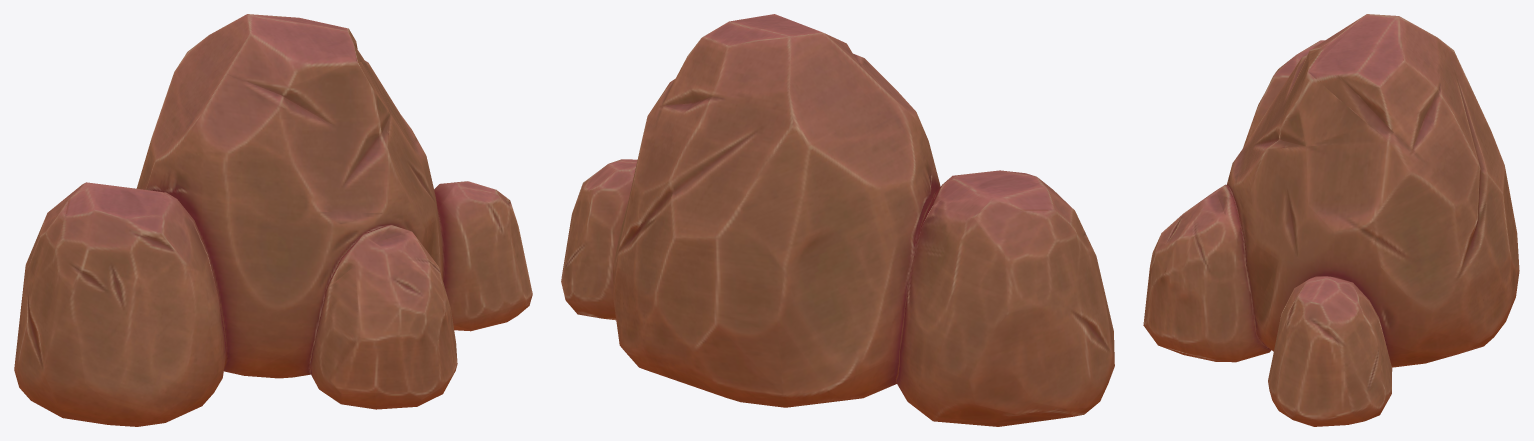
The model's file is rocks2.fbx.
3 renders of one model, left to right at view 1: azimuth 30°, elevation 25°; view 2: azimuth 150°, elevation 25°; view 3: azimuth 270°, elevation 25°, orthographic. The views are drawn at different scales.
Visible parts, largest first — view 1: rocks2; view 2: rocks2; view 3: rocks2.
Part boxes in pixels (bbox=[...]): rocks2: bbox=[14, 14, 532, 426]; rocks2: bbox=[561, 14, 1114, 426]; rocks2: bbox=[1143, 14, 1519, 426].
Size of the model in its own units: 2 by 1.26 by 1.37.
